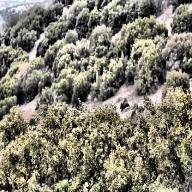boar: (119, 99, 130, 113)
